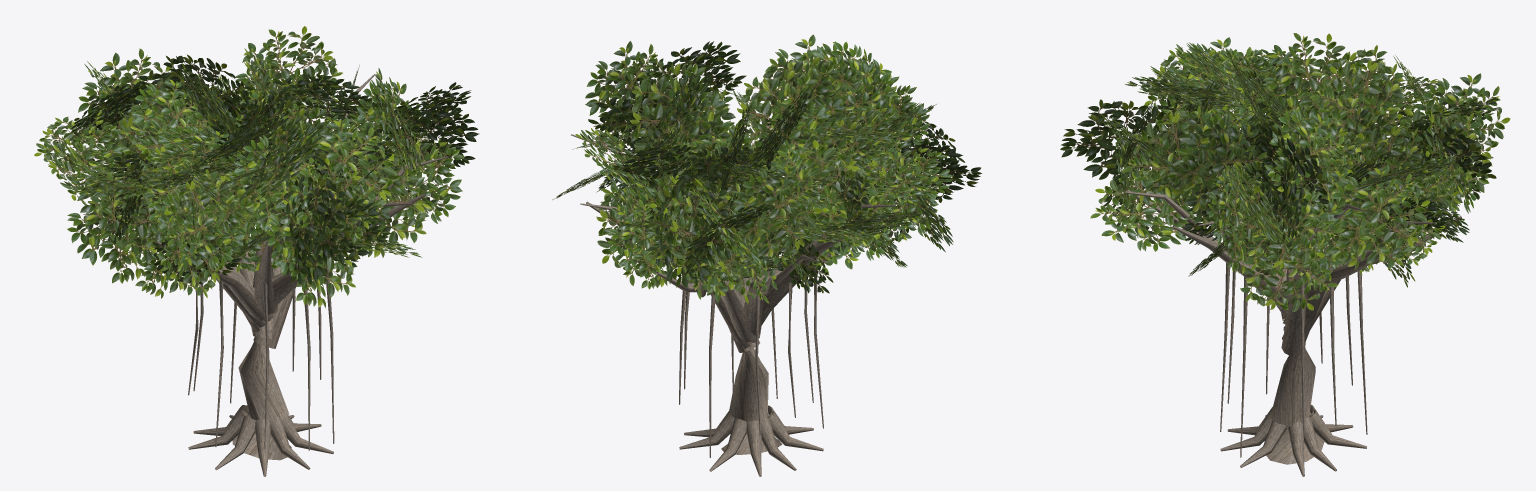
File: banyan.glb
3 views of the same model, side by side, from view 1: azimuth 30°, elevation 25°; view 2: azimuth 150°, elevation 25°; view 3: azimuth 270°, elevation 25° (orthographic). The views are drawn at different scales.
Parts seen in each view (by area): view 1: banyan_Body.003; view 2: banyan_Body.003; view 3: banyan_Body.003.
Boxes of the visible parts, box(x1,y1,x2,y2) form: banyan_Body.003: box(34, 26, 479, 476); banyan_Body.003: box(552, 34, 981, 476); banyan_Body.003: box(1060, 33, 1510, 476).
Bounding box in the file's own units: 9.49 × 8.54 × 9.28.
2 materials, 2 textured.
